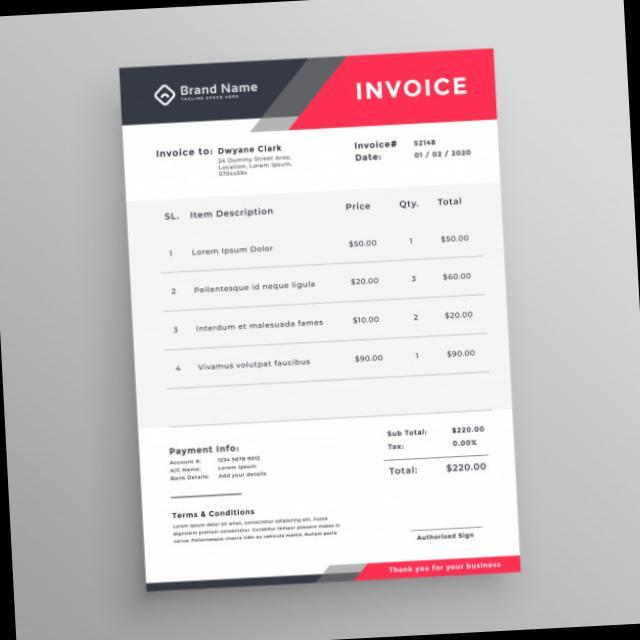customer_address: (214, 153, 295, 182)
customer_name: (216, 140, 287, 156)
invoice_date: (408, 147, 474, 163)
invoice_number: (410, 136, 446, 145)
invoice_subtotal: (448, 422, 492, 435)
invoice_total: (442, 458, 494, 477)
item_description: (188, 240, 330, 388)
item_quantity: (398, 230, 428, 371)
item_total_price: (435, 228, 484, 372)
item_unit_price: (343, 234, 386, 381)
supplier_name: (176, 78, 260, 97)
tax_rate: (447, 435, 486, 451)
